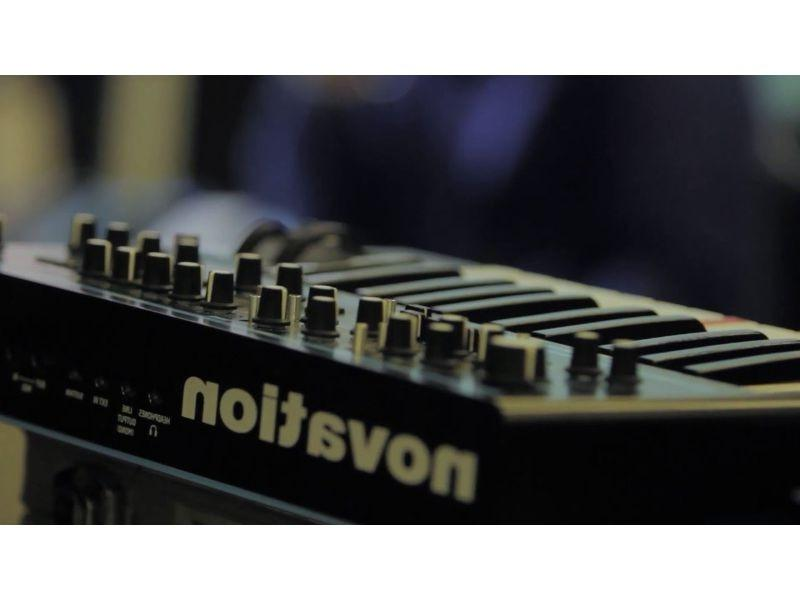synthesizer: (17, 175, 786, 503)
